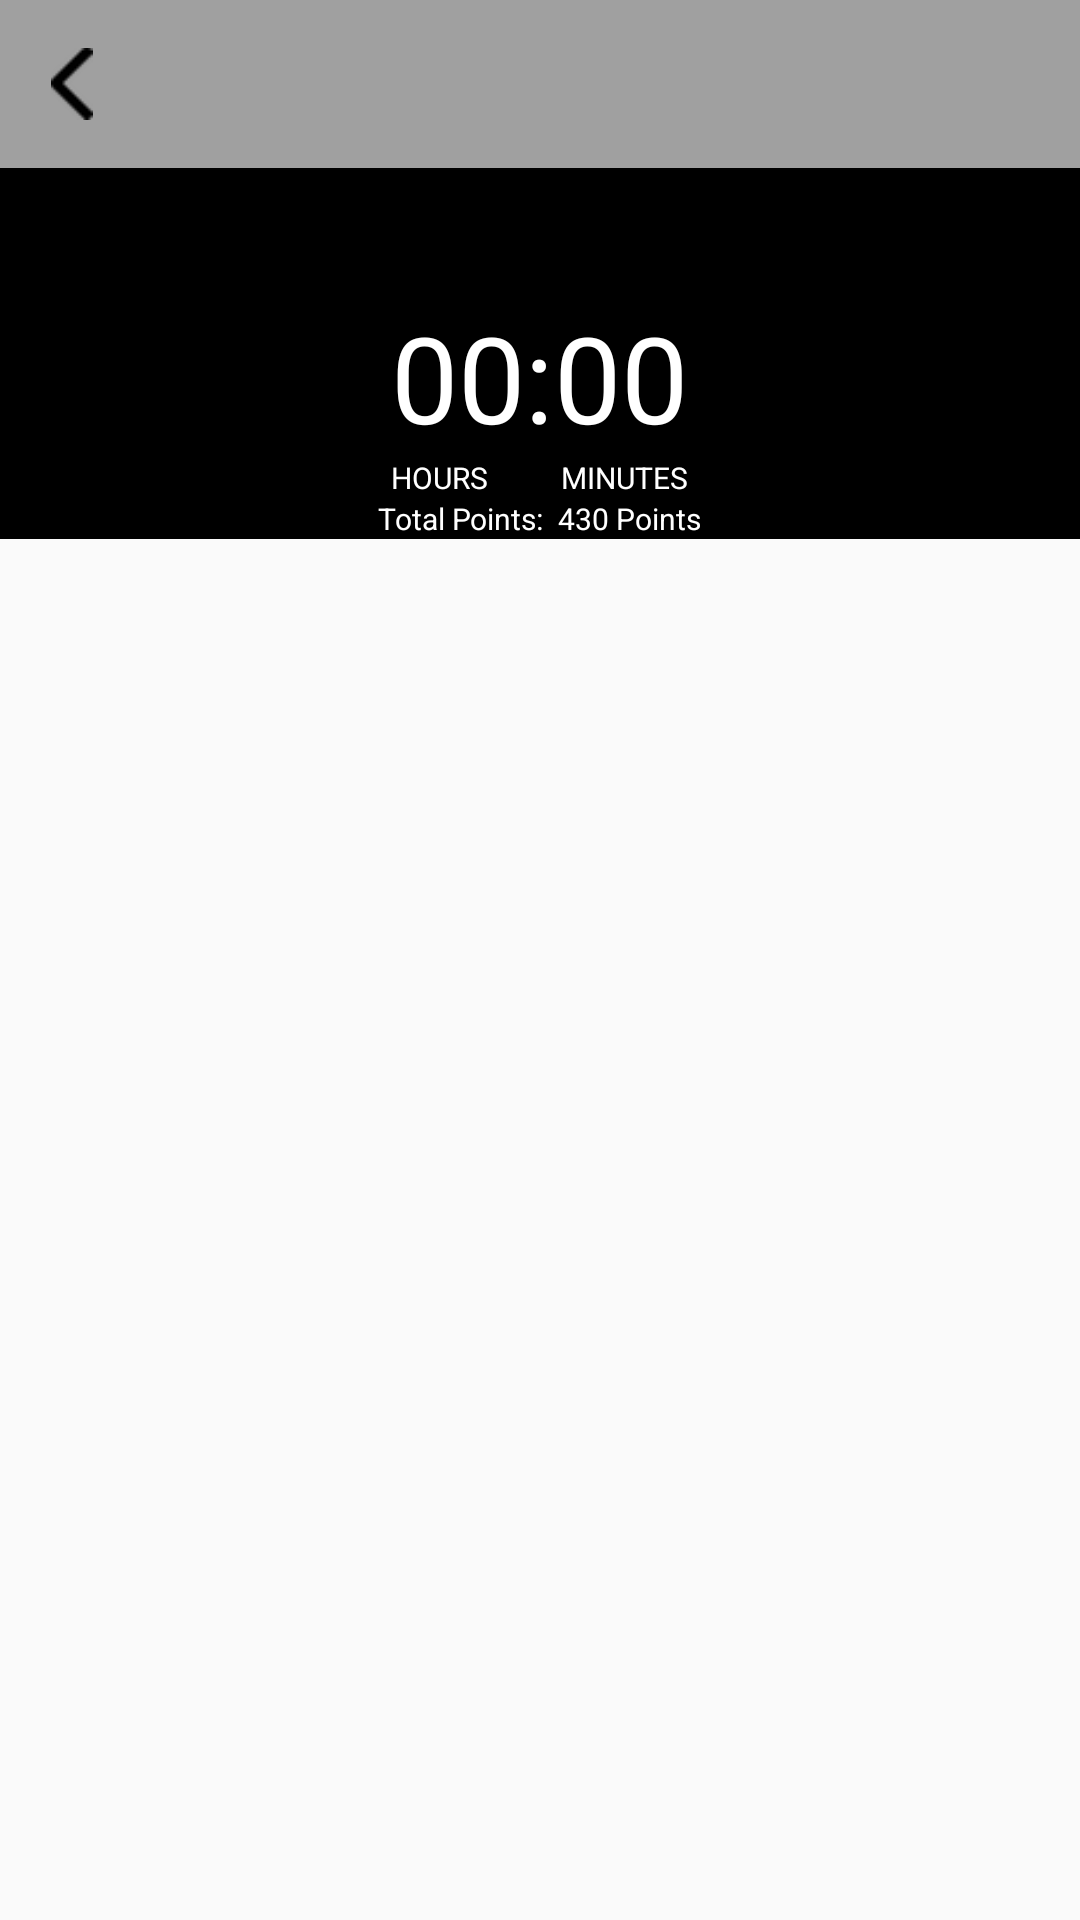

Screen size 1080 x 1920. Icon name, then its box in pixels as (x1, y1, x2, y2):
back: (51, 48, 93, 120)
